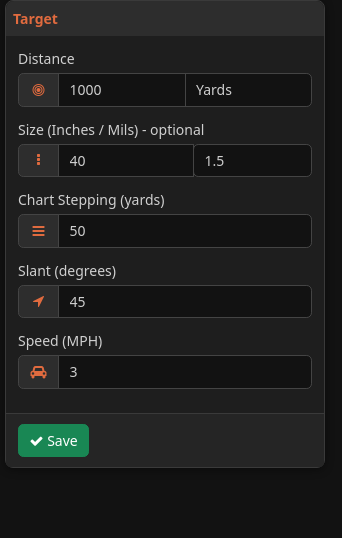
Scenario: displays validation error for slantDegrees when value exceeds max
Replace the text in the number field named "slantDegrees" with "600": point(185, 301) [58, 284, 312, 318]
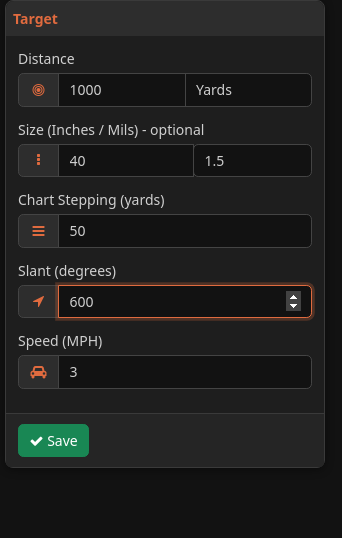
Press Tab
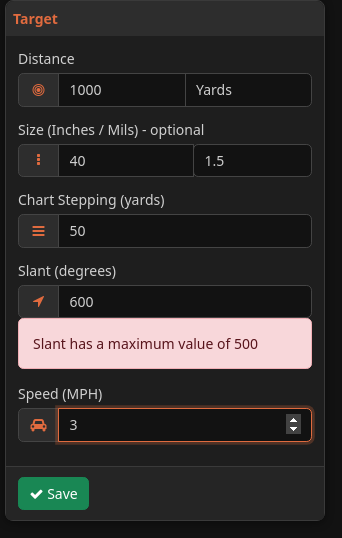
Now the text "Slant has a maximum value of 500" is shown, box [18, 318, 312, 369]
